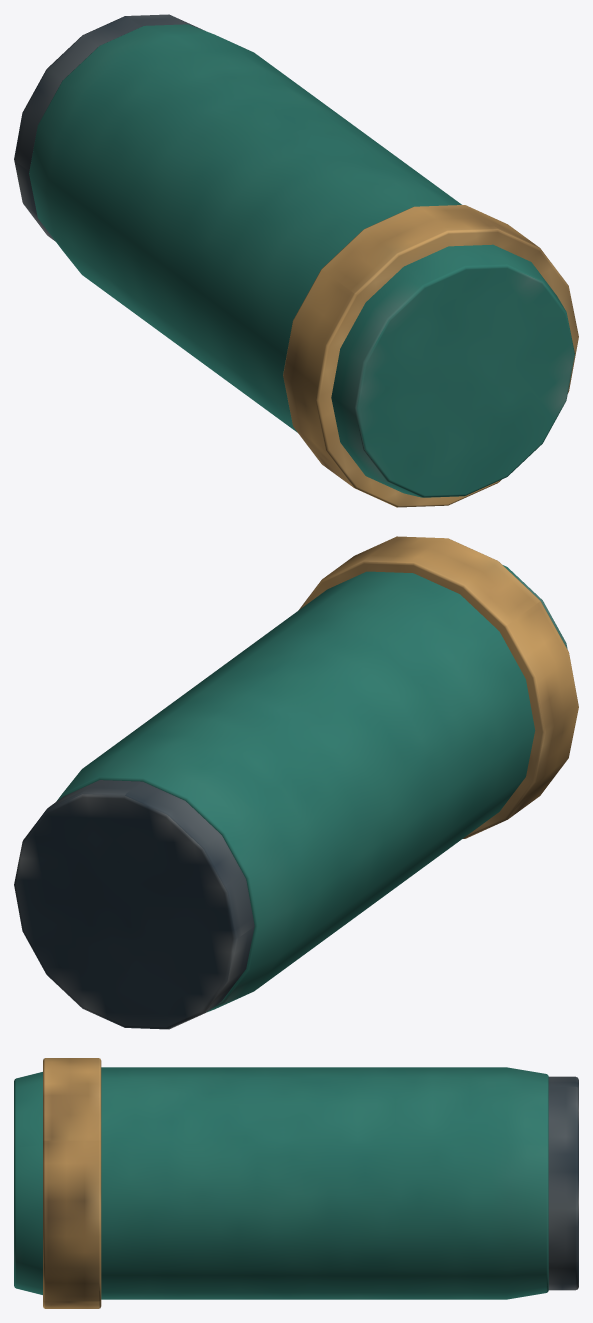
The model's file is smoke_canister.glb.
The picture shows the model from 3 angles, top to bottom: view 1: azimuth 30°, elevation 25°; view 2: azimuth 150°, elevation 25°; view 3: azimuth 270°, elevation 25°; orthographic projection. The views are drawn at different scales.
Visible parts, largest first — view 1: v4_smoke_canister__canister_body, v4_smoke_canister__rim, v4_smoke_canister__cap; view 2: v4_smoke_canister__canister_body, v4_smoke_canister__cap, v4_smoke_canister__rim; view 3: v4_smoke_canister__canister_body, v4_smoke_canister__rim, v4_smoke_canister__cap.
Boxes of the visible parts, left/top/right/bottom form: v4_smoke_canister__canister_body: left=29, top=24, right=574, bottom=497; v4_smoke_canister__rim: left=283, top=205, right=578, bottom=507; v4_smoke_canister__cap: left=14, top=14, right=204, bottom=241; v4_smoke_canister__canister_body: left=56, top=565, right=567, bottom=1012; v4_smoke_canister__cap: left=14, top=780, right=254, bottom=1029; v4_smoke_canister__rim: left=298, top=536, right=578, bottom=838; v4_smoke_canister__canister_body: left=14, top=1067, right=548, bottom=1299; v4_smoke_canister__rim: left=43, top=1058, right=101, bottom=1308; v4_smoke_canister__cap: left=548, top=1076, right=578, bottom=1290.
Size of the model in its own units: 0.108 by 0.108 by 0.243.
1 material, 1 textured.
